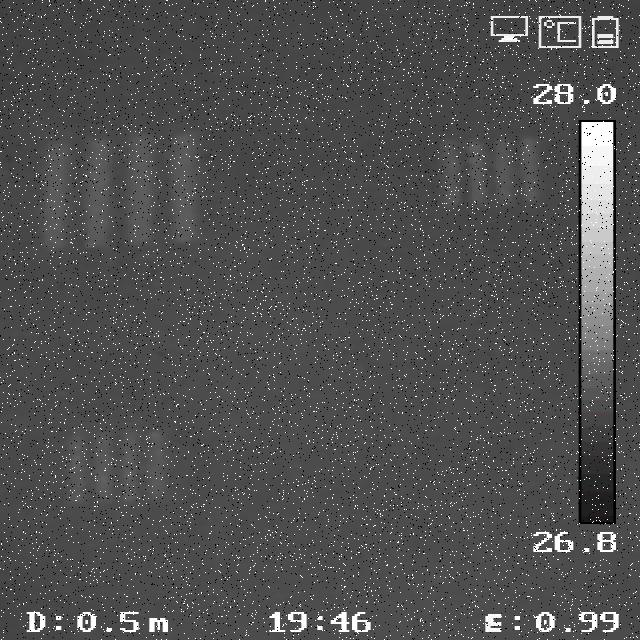Distinguishable 4-bar target: (37, 138, 204, 248), (64, 427, 175, 500), (438, 133, 546, 207)
